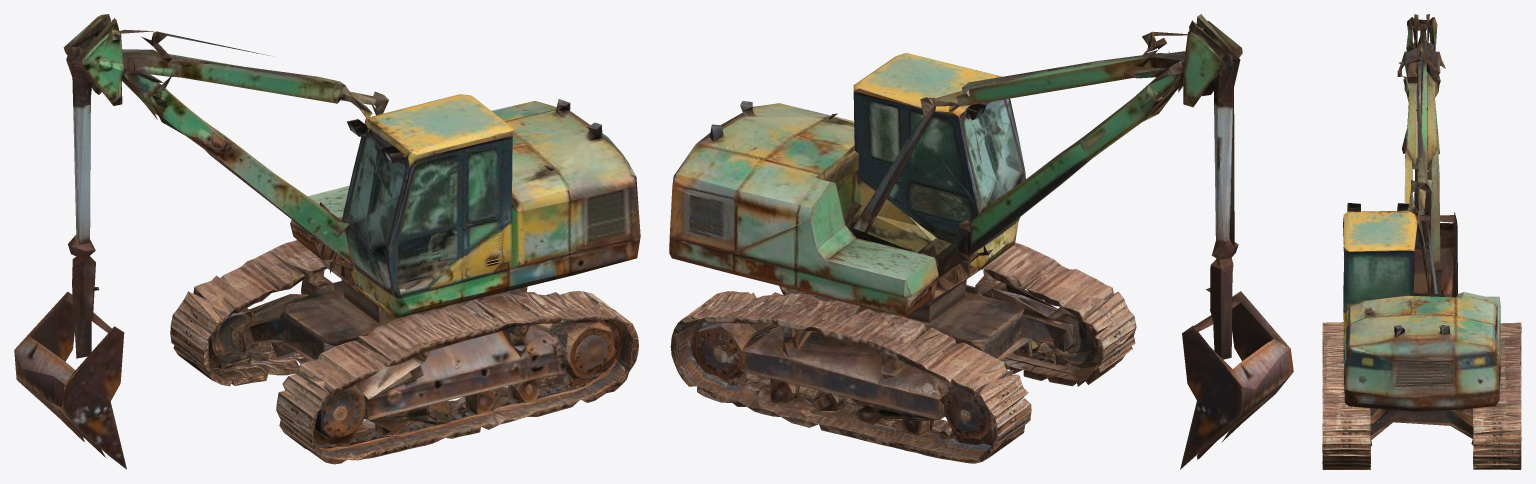
Rendered from forest-hero.glb.
3 views of the same model, side by side, from view 1: azimuth 30°, elevation 25°; view 2: azimuth 150°, elevation 25°; view 3: azimuth 270°, elevation 25° (orthographic). The views are drawn at different scales.
Bounding box in the file's own units: 1.89 × 1.4 × 0.8113.
1 material, 1 textured.
